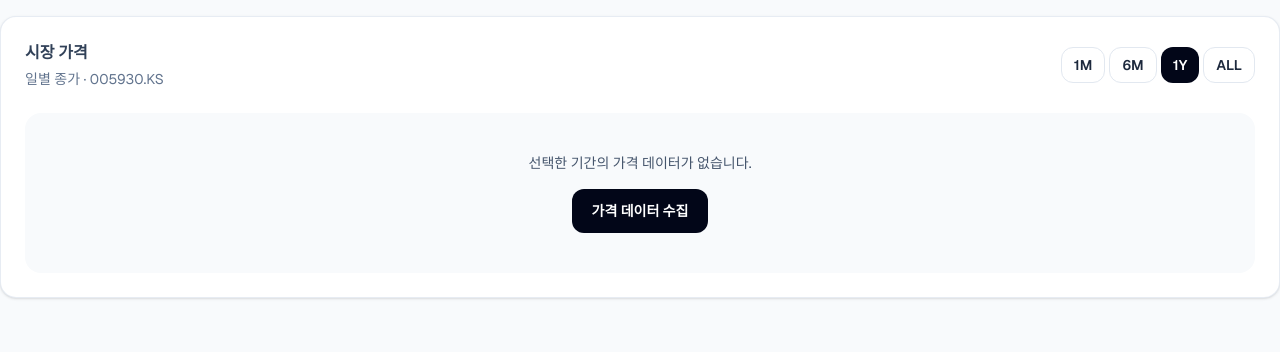
Test: AssetPriceChart › requests the resolved Yahoo ticker for an authenticated user
Click the button "가격 데이터 수집": (640, 211) [572,189,708,233]
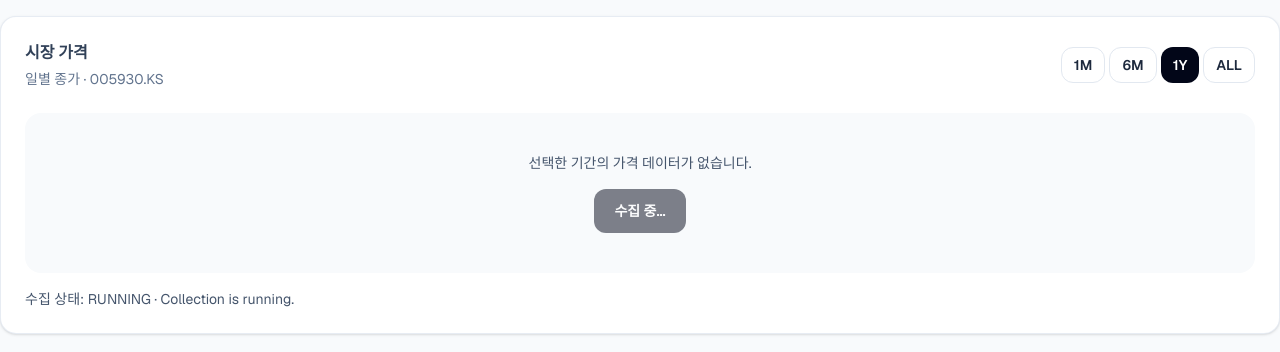
Expected: the text "수집 상태: RUNNING · Collection is running." is shown, [25,290,294,308]
